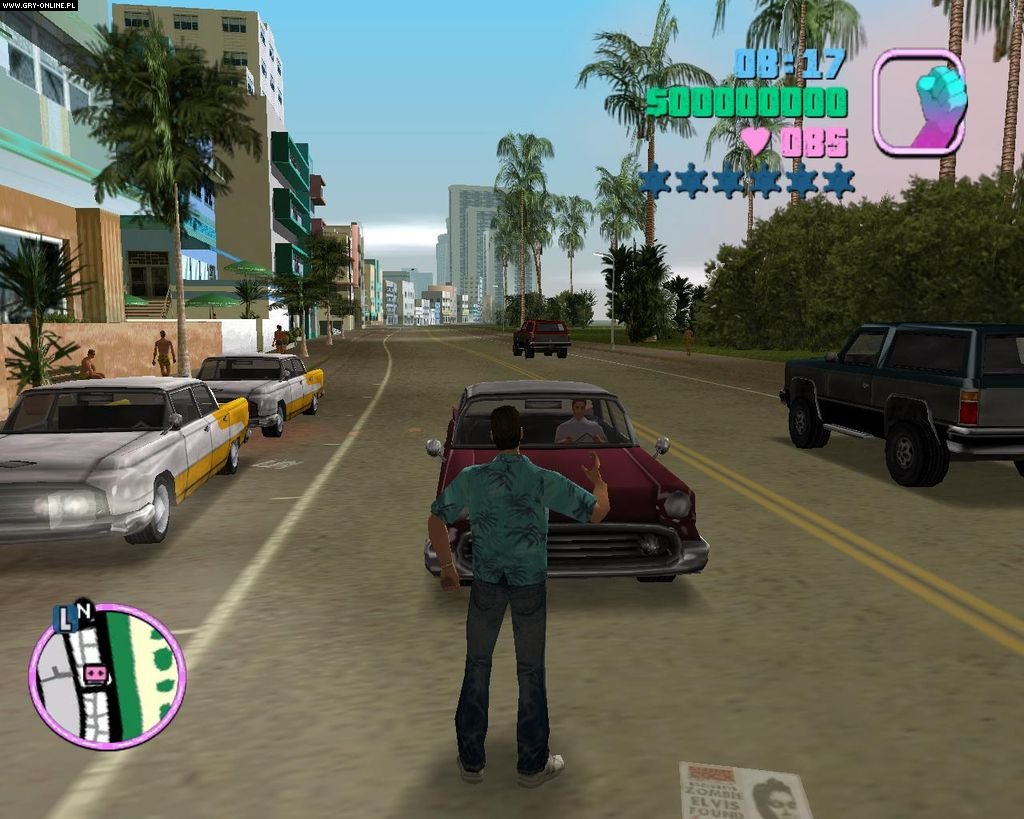car: (429, 384, 713, 601), (787, 322, 1015, 498), (1, 386, 253, 543), (194, 351, 323, 438), (507, 318, 583, 365)
person: (451, 417, 574, 788)
